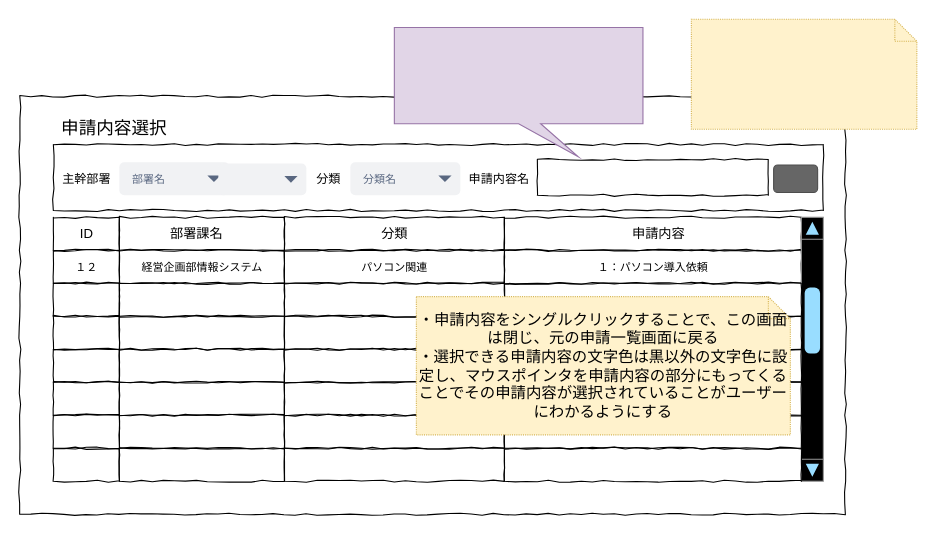
Image size: 936x534. Some labels were removed from this diagram. Each missing label, with the box of its shape:
ユーザーが手入力（テキストボックス）部分一致検索することができる: (393, 26, 643, 157)
検索: (773, 164, 818, 193)
検索項目を何も入力せずに検索ボタンを押下した場合、全帳票が下記に表示される: (690, 18, 917, 129)
課名: (218, 163, 306, 195)
